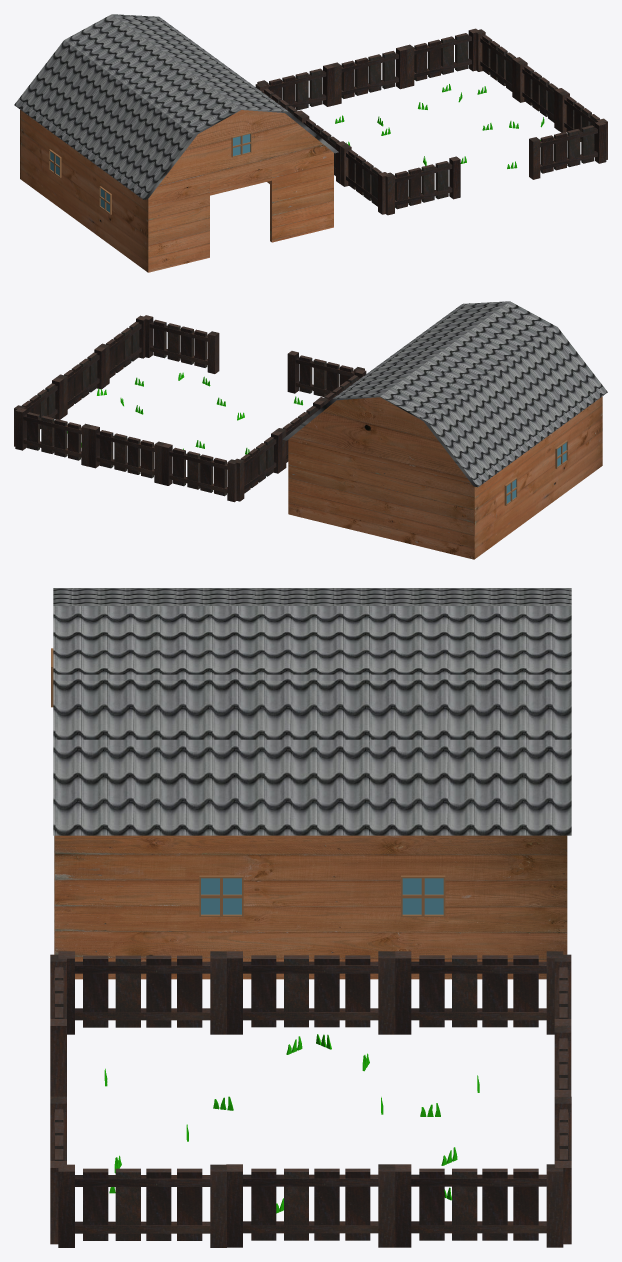
File: structure_pasture_1.fbx
3 views of the same model, one above another, from view 1: azimuth 30°, elevation 25°; view 2: azimuth 150°, elevation 25°; view 3: azimuth 270°, elevation 25° (orthographic). The views are drawn at different scales.
Visible parts, largest first — view 1: dak, fences, muren, grass, windows, Plane; view 2: dak, muren, fences, windows, grass; view 3: dak, fences, muren, windows, grass.
Part boxes in pixels (x1,y1,x2,y2): dak: (14,14,338,199); fences: (255,28,607,215); muren: (20,110,333,272); grass: (335,84,544,168); windows: (49,149,111,214); Plane: (231,132,251,157); dak: (282,301,607,487); muren: (288,396,602,559); fences: (14,315,366,502); windows: (504,440,567,505); grass: (67,372,302,454); dak: (53,588,571,835); fences: (50,951,571,1247); muren: (54,835,567,979); windows: (199,875,445,916); grass: (104,1034,479,1213).
Bounding box in the file's own units: 2558 × 742 × 1241.
